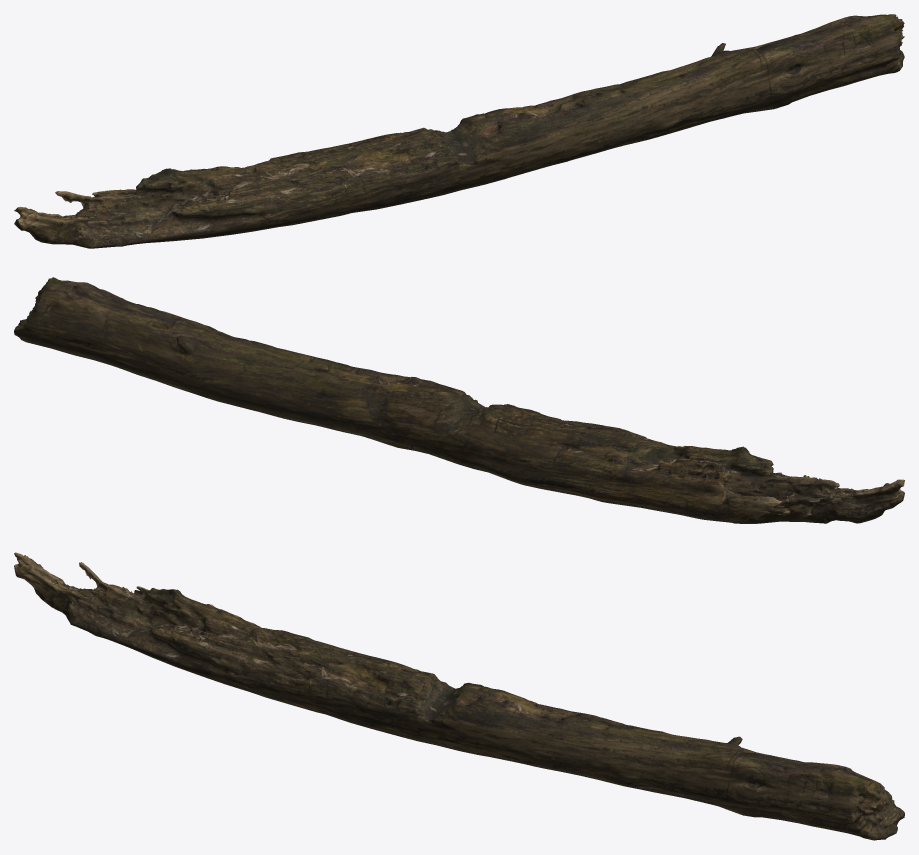
The model's file is dead_tree_trunk.glb.
3 renders of one model, top to bottom at view 1: azimuth 30°, elevation 25°; view 2: azimuth 150°, elevation 25°; view 3: azimuth 330°, elevation 25°, orthographic.
Parts seen in each view (by area): view 1: dead_tree_trunk; view 2: dead_tree_trunk; view 3: dead_tree_trunk.
Boxes of the visible parts, x1=… form: dead_tree_trunk: x1=14, y1=14, x2=904, y2=248; dead_tree_trunk: x1=14, y1=277, x2=904, y2=523; dead_tree_trunk: x1=14, y1=552, x2=904, y2=840.
Bounding box in the file's own units: 3.05 × 0.29 × 0.2775.
Materials: 1 (1 with a texture image).
